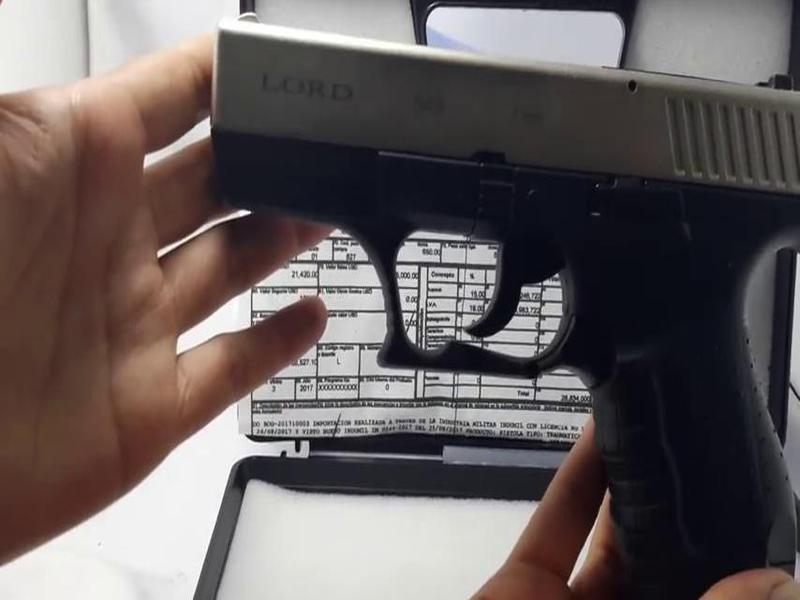Pistola: (166, 9, 800, 595)
